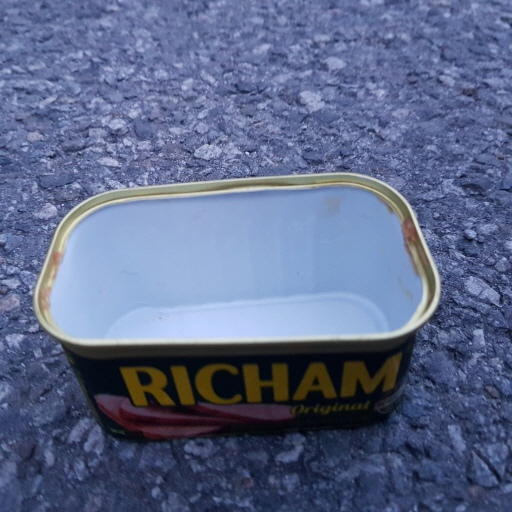Metal_2: (32, 179, 443, 437)
